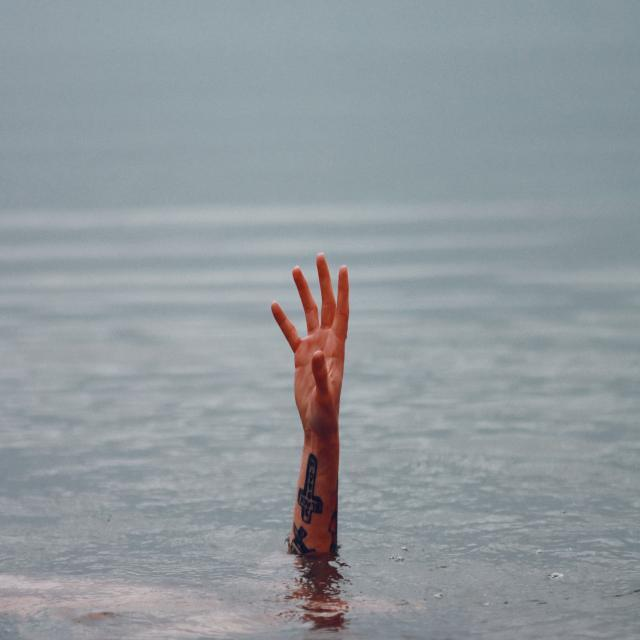swimming: (226, 232, 418, 598)
